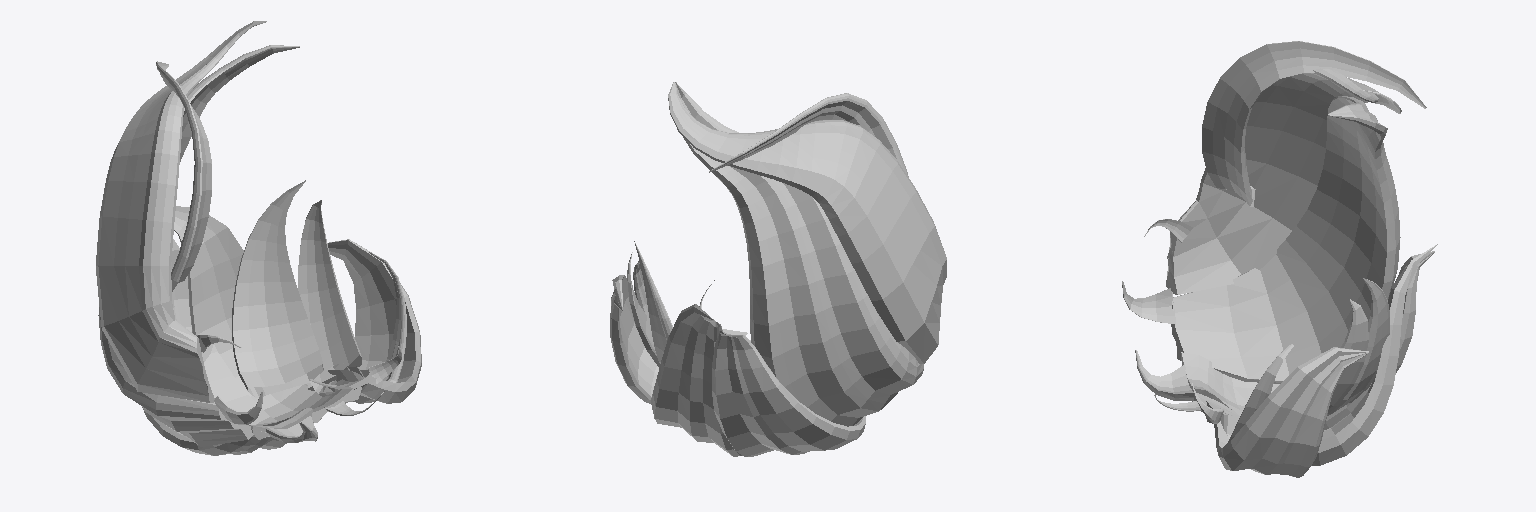
The model's file is hair_run0003.obj.
3 views of the same model, side by side, from view 1: azimuth 30°, elevation 25°; view 2: azimuth 150°, elevation 25°; view 3: azimuth 270°, elevation 25° (orthographic).
Visible parts, largest first — view 1: NurbsPath.012; view 2: NurbsPath.012; view 3: NurbsPath.012.
Part boxes in pixels (x1,y1,x2,y2): NurbsPath.012: (96, 21, 421, 455); NurbsPath.012: (610, 82, 946, 456); NurbsPath.012: (1122, 41, 1437, 477).
Size of the model in its own units: 0.6052 by 0.7184 by 0.5371.